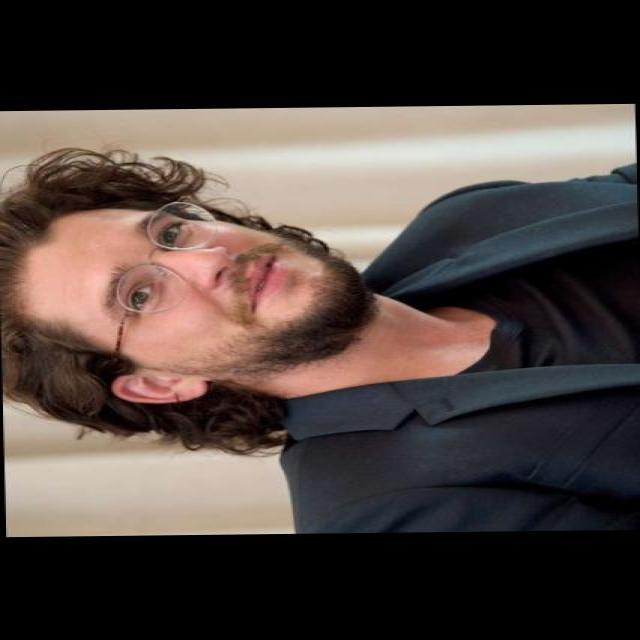glasses: (107, 200, 218, 340)
